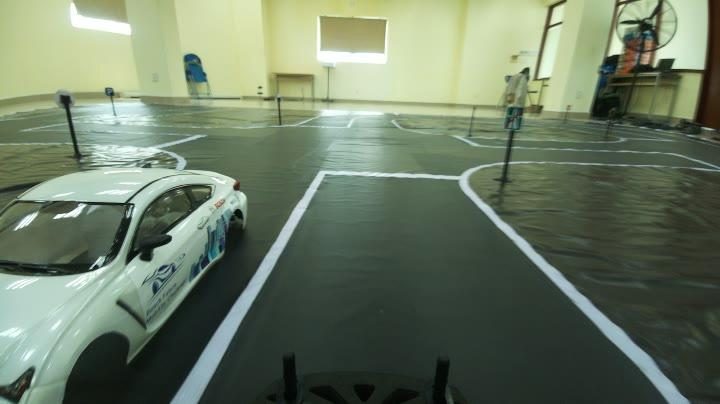car: (3, 178, 272, 400)
highway_exit: (499, 100, 537, 140)
